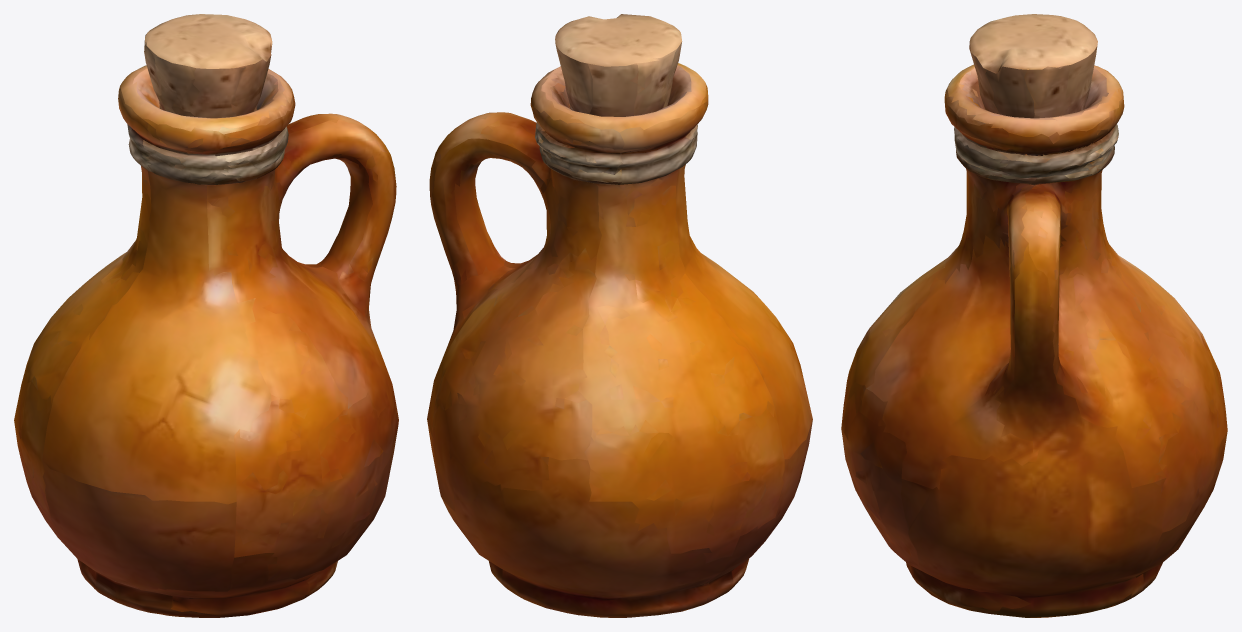
File: token-oil.glb
The picture shows the model from 3 angles, left to right: view 1: azimuth 30°, elevation 25°; view 2: azimuth 150°, elevation 25°; view 3: azimuth 270°, elevation 25°; orthographic projection.
Visible parts, largest first — view 1: geometry_0; view 2: geometry_0; view 3: geometry_0.
Part boxes in pixels (<box>): geometry_0: <box>14,14,398,617</box>; geometry_0: <box>427,14,812,617</box>; geometry_0: <box>841,14,1227,617</box>.
Bounding box in the file's own units: 0.1235 × 0.18 × 0.1184.
1 material, 1 textured.
